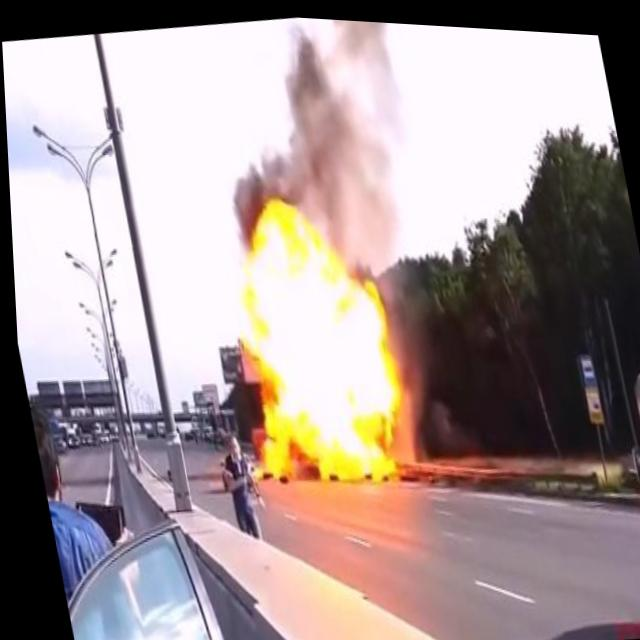fire: (206, 169, 420, 511)
